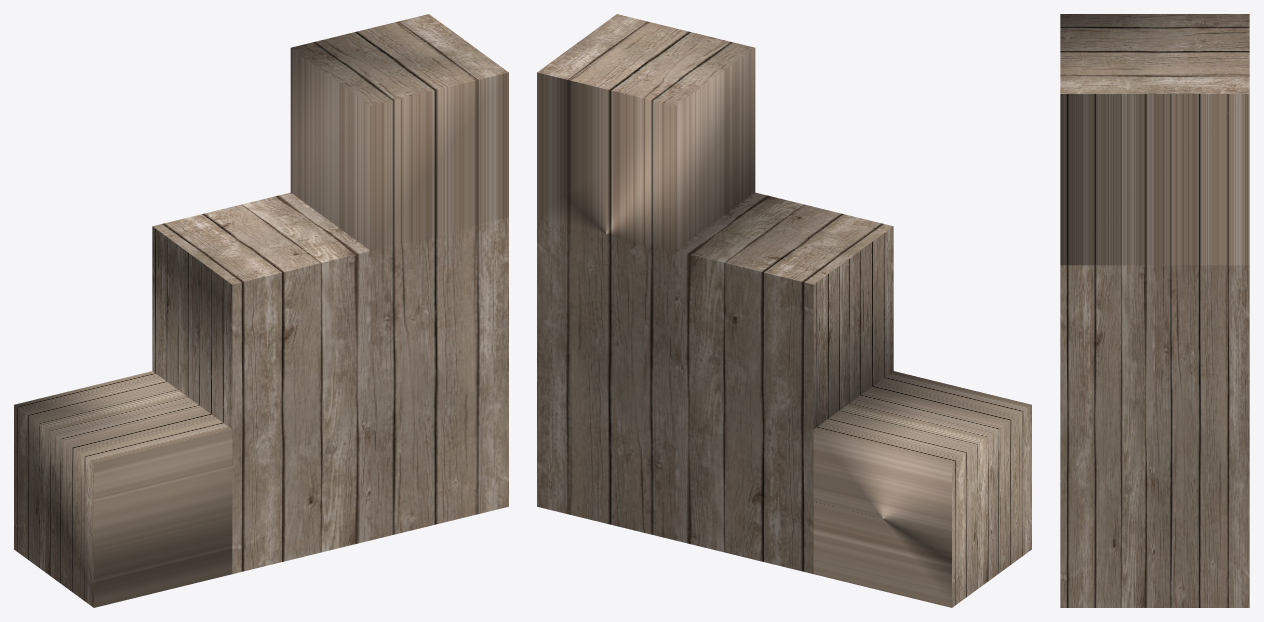
File: stairs.obj
3 renders of one model, left to right at view 1: azimuth 30°, elevation 25°; view 2: azimuth 150°, elevation 25°; view 3: azimuth 270°, elevation 25°, orthographic. The views are drawn at different scales.
Parts seen in each view (by area): view 1: Cube.001; view 2: Cube.001; view 3: Cube.001.
Boxes of the visible parts, x1=… form: Cube.001: x1=14, y1=14, x2=508, y2=607; Cube.001: x1=537, y1=14, x2=1031, y2=607; Cube.001: x1=1060, y1=14, x2=1249, y2=607.
Bounding box in the file's own units: 3 × 3 × 1.
